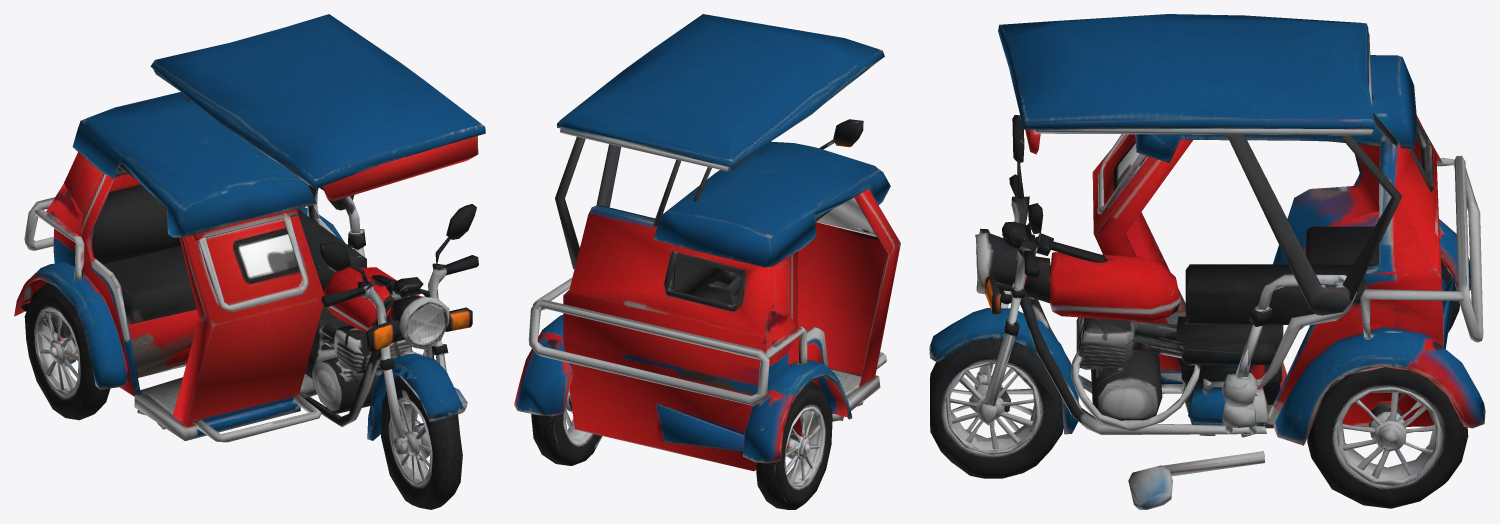
The model's file is tricycle.glb.
The picture shows the model from 3 angles, left to right: view 1: azimuth 30°, elevation 25°; view 2: azimuth 150°, elevation 25°; view 3: azimuth 270°, elevation 25°; orthographic projection. The views are drawn at different scales.
Parts seen in each view (by area): view 1: Mesh0; view 2: Mesh0; view 3: Mesh0.
Boxes of the visible parts, box(x1,y1,x2,y2) form: Mesh0: box(14, 14, 485, 509); Mesh0: box(514, 14, 900, 509); Mesh0: box(929, 14, 1485, 509).
Bounding box in the file's own units: 0.733 × 0.845 × 1.
Materials: 1 (1 with a texture image).
